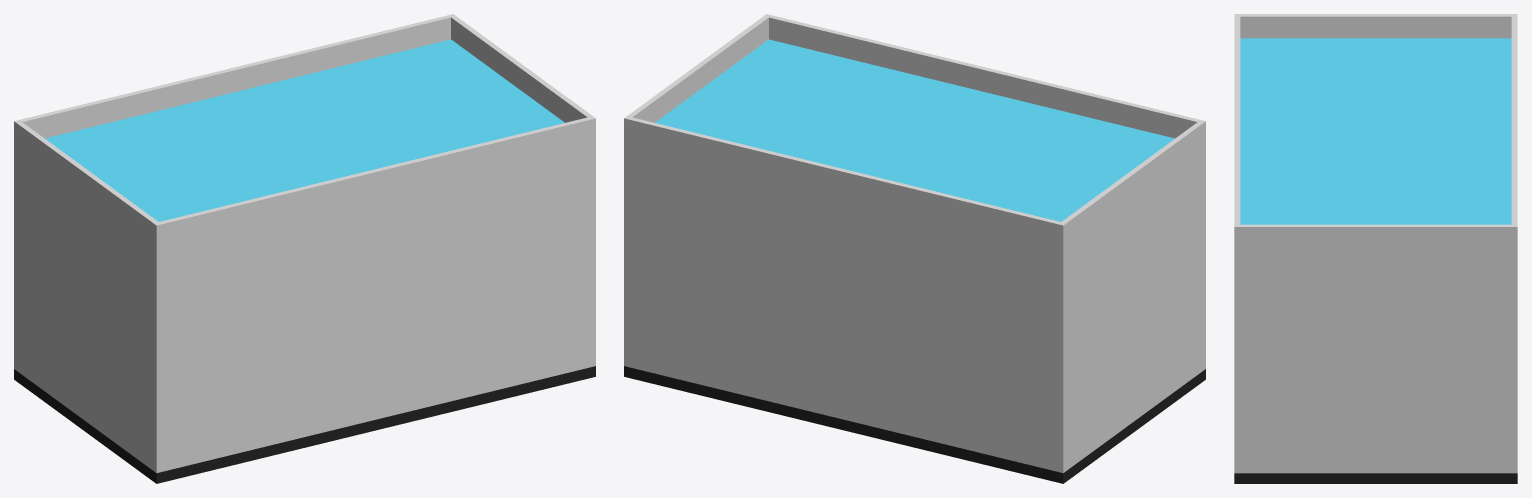
The model's file is fishtank.fbx.
3 views of the same model, side by side, from view 1: azimuth 30°, elevation 25°; view 2: azimuth 150°, elevation 25°; view 3: azimuth 270°, elevation 25° (orthographic).
Visible parts, largest first — view 1: Cube; view 2: Cube; view 3: Cube.
Part boxes in pixels (x1,y1,x2,y2): Cube: [14, 14, 595, 483]; Cube: [624, 14, 1205, 483]; Cube: [1234, 14, 1517, 483].
Size of the model in its own units: 356 by 200 by 200.
